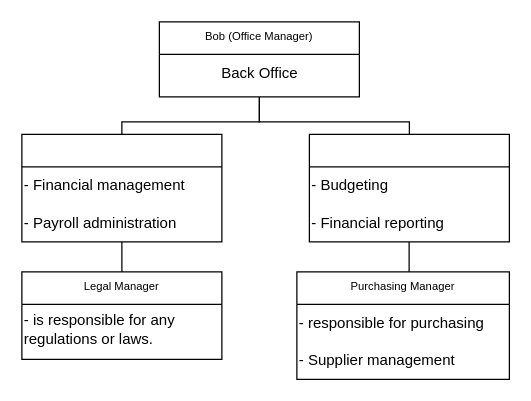
The diagram is 531 pixels wide and 401 high, and some of its shapes have lost their labels. Here are the shapes that lost their labels. From the top down, the box of each, then its label:
(21, 133, 222, 242): Finance Manager
(308, 133, 509, 242): Accountant
